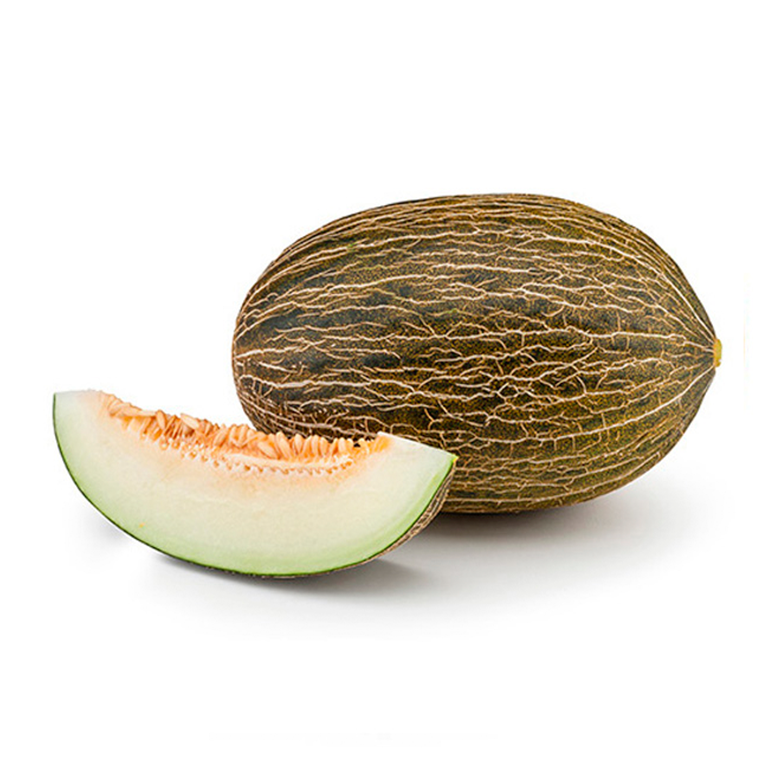Melon: (54, 385, 491, 598)
